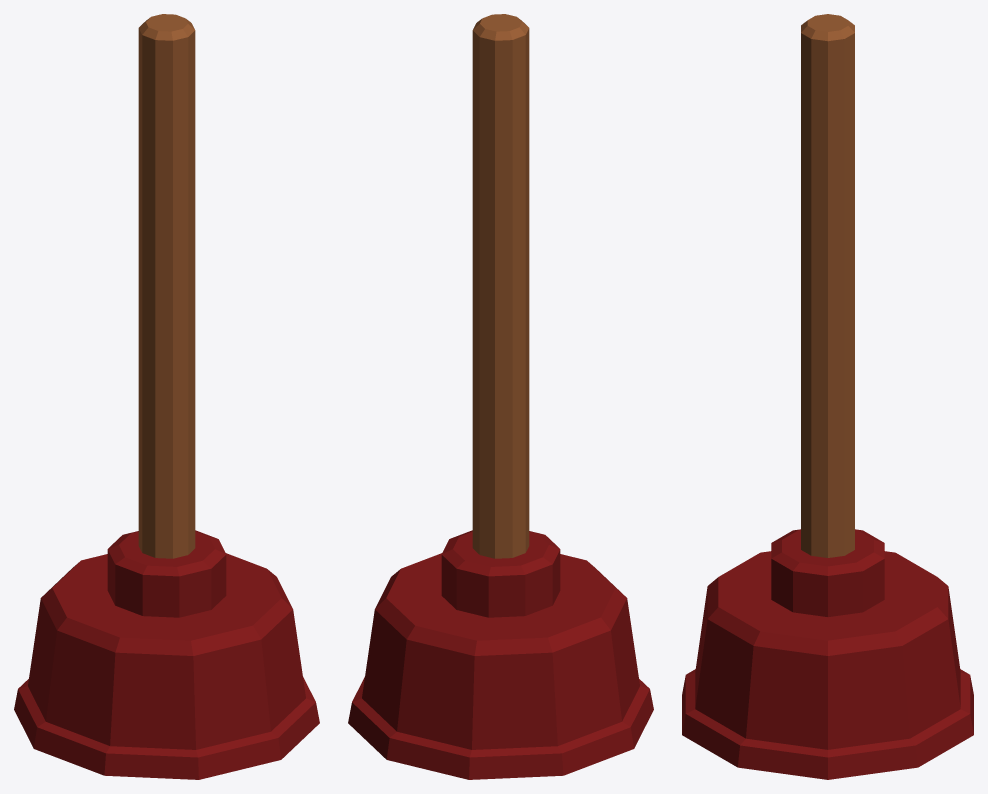
Rendered from Munition_Gros.fbx.
3 views of the same model, side by side, from view 1: azimuth 30°, elevation 25°; view 2: azimuth 150°, elevation 25°; view 3: azimuth 270°, elevation 25° (orthographic).
Parts seen in each view (by area): view 1: Cylinder007; view 2: Cylinder007; view 3: Cylinder007.
Boxes of the visible parts, bbox=[...] form: Cylinder007: bbox=[14, 14, 319, 779]; Cylinder007: bbox=[348, 14, 653, 779]; Cylinder007: bbox=[682, 14, 973, 779].
Size of the model in its own units: 11.75 by 29.23 by 11.17.
